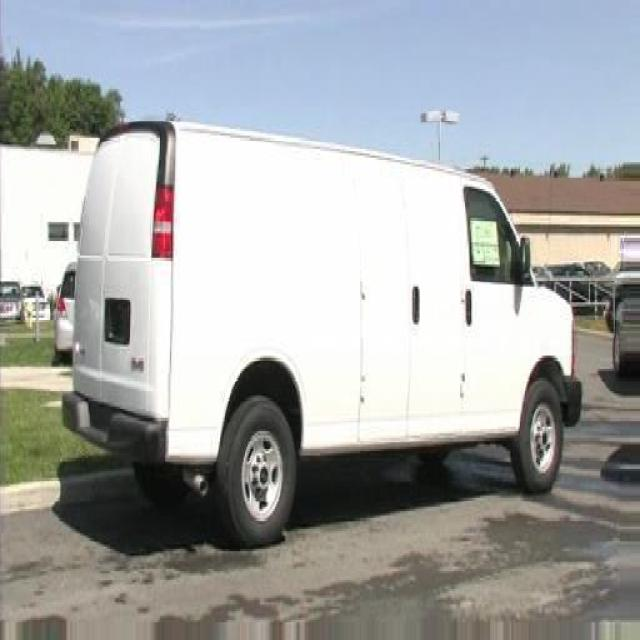Van: (47, 98, 612, 544)
